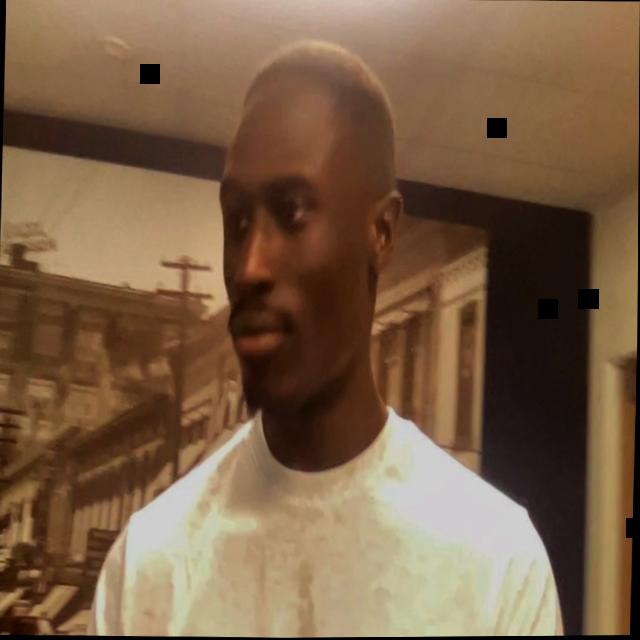NO-Mask: (213, 99, 404, 421)
